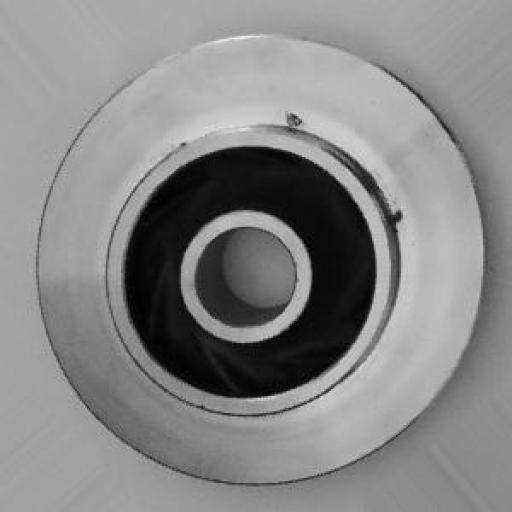defect: (274, 73, 451, 245)
